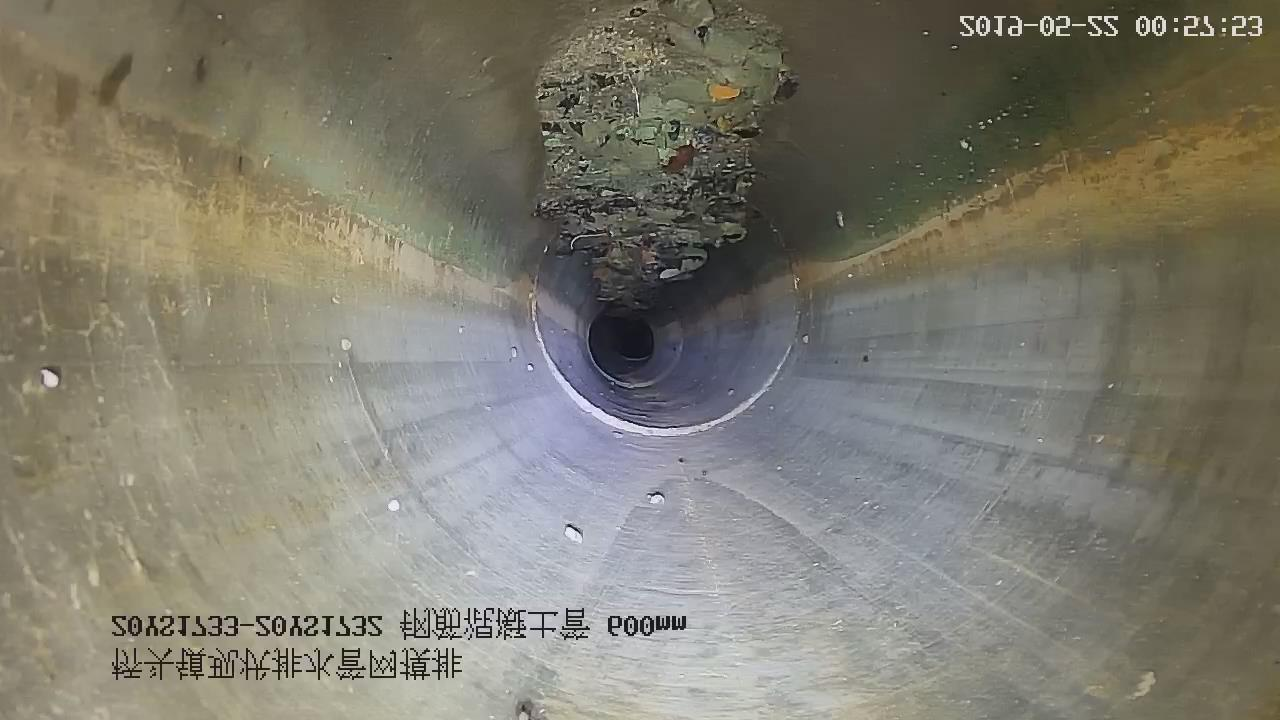CJ: (535, 1, 797, 315)
CKTJ: (531, 293, 798, 437), (584, 325, 687, 392)
